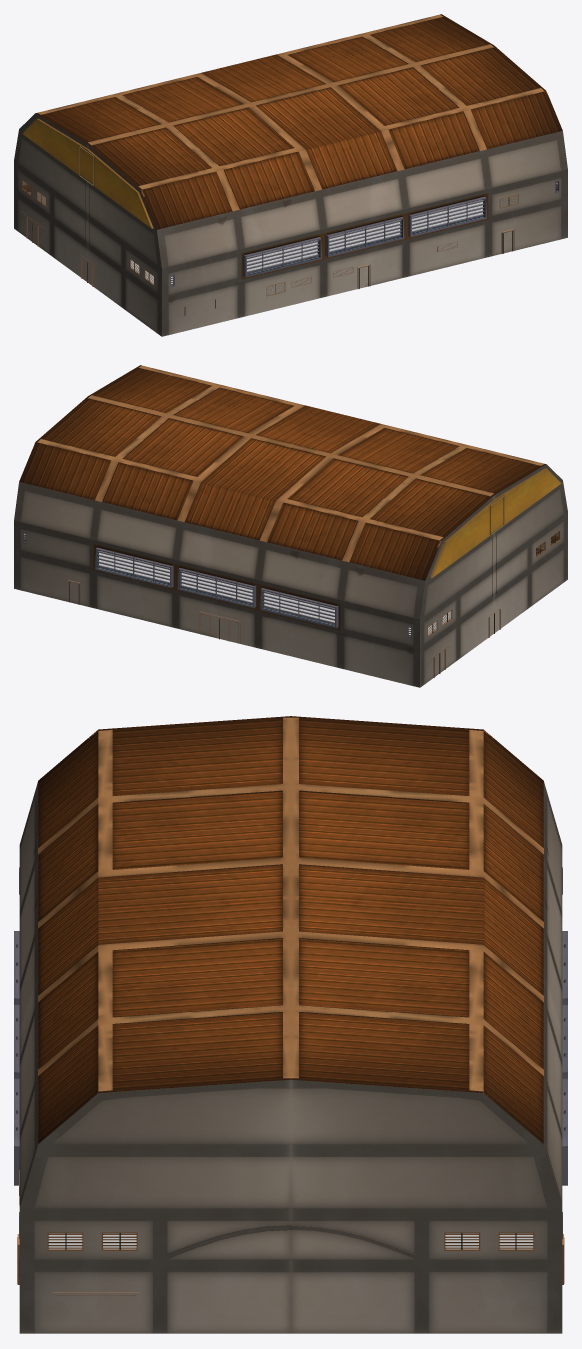
The model's file is HxH_Gym.fbx.
3 renders of one model, top to bottom at view 1: azimuth 30°, elevation 25°; view 2: azimuth 150°, elevation 25°; view 3: azimuth 270°, elevation 25°, orthographic. The views are drawn at different scales.
Visible parts, largest first — view 1: WallsRoof, Pillars, BigBars1, TopLogo1, Floor1, DoorNBars; view 2: WallsRoof, Pillars, BigBars1, TopLogo1, Floor1, DoorNBars; view 3: WallsRoof, Pillars, BigBars1, DoorNBars, Floor1.
Boxes of the visible parts, left/top/right/bottom form: WallsRoof: left=14, top=14, right=567, bottom=336; Pillars: left=22, top=14, right=557, bottom=279; BigBars1: left=243, top=196, right=486, bottom=277; TopLogo1: left=22, top=118, right=153, bottom=228; Floor1: left=130, top=200, right=482, bottom=284; DoorNBars: left=21, top=179, right=559, bottom=315; WallsRoof: left=14, top=365, right=567, bottom=687; Pillars: left=24, top=365, right=559, bottom=630; BigBars1: left=95, top=547, right=338, bottom=628; TopLogo1: left=430, top=468, right=561, bottom=578; Floor1: left=99, top=551, right=451, bottom=635; DoorNBars: left=22, top=530, right=560, bottom=677; WallsRoof: left=19, top=716, right=562, bottom=1333; Pillars: left=38, top=717, right=543, bottom=1258; BigBars1: left=14, top=931, right=567, bottom=1185; DoorNBars: left=17, top=867, right=564, bottom=1295; Floor1: left=48, top=1233, right=533, bottom=1249.
Size of the model in its own units: 4727 by 1526 by 3016.
